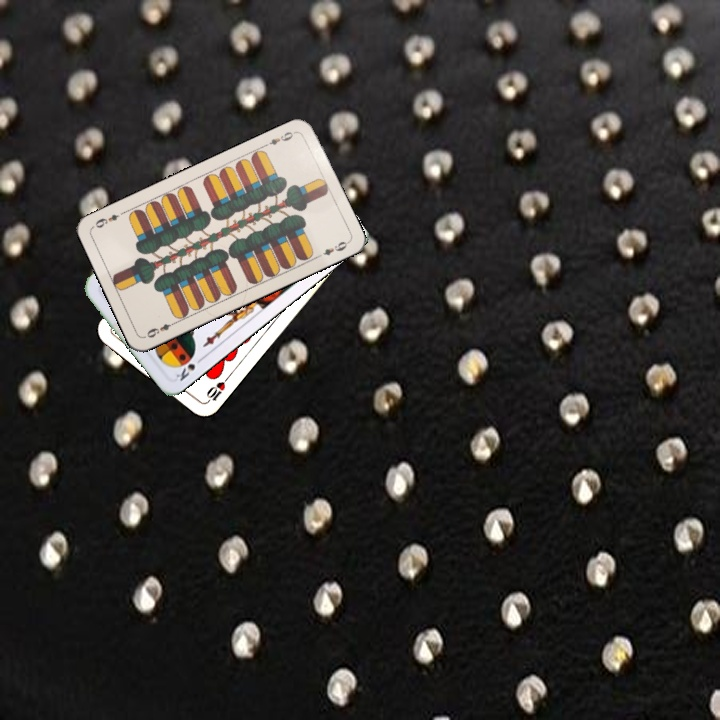E9: (141, 317, 179, 340), (260, 127, 299, 149)
H10: (202, 372, 232, 406)
SK: (172, 353, 206, 384)
